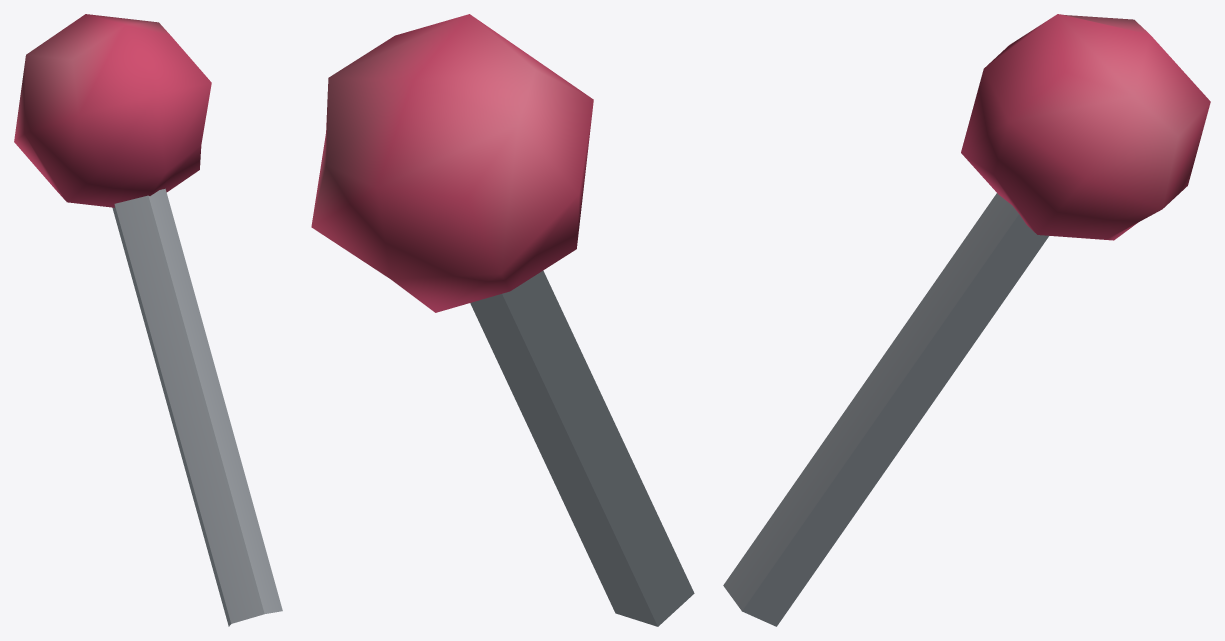
The model's file is TubeElevatorConsoleControl1.glb.
The picture shows the model from 3 angles, left to right: view 1: azimuth 30°, elevation 25°; view 2: azimuth 150°, elevation 25°; view 3: azimuth 270°, elevation 25°; orthographic projection. The views are drawn at different scales.
Parts seen in each view (by area): view 1: TubeElevatorConsoleControl1; view 2: TubeElevatorConsoleControl1; view 3: TubeElevatorConsoleControl1.
Boxes of the visible parts, x1=… form: TubeElevatorConsoleControl1: x1=14, y1=14, x2=282, y2=626; TubeElevatorConsoleControl1: x1=311, y1=14, x2=694, y2=626; TubeElevatorConsoleControl1: x1=723, y1=14, x2=1210, y2=626.
Bounding box in the file's own units: 0.1736 × 0.4795 × 0.3505.
